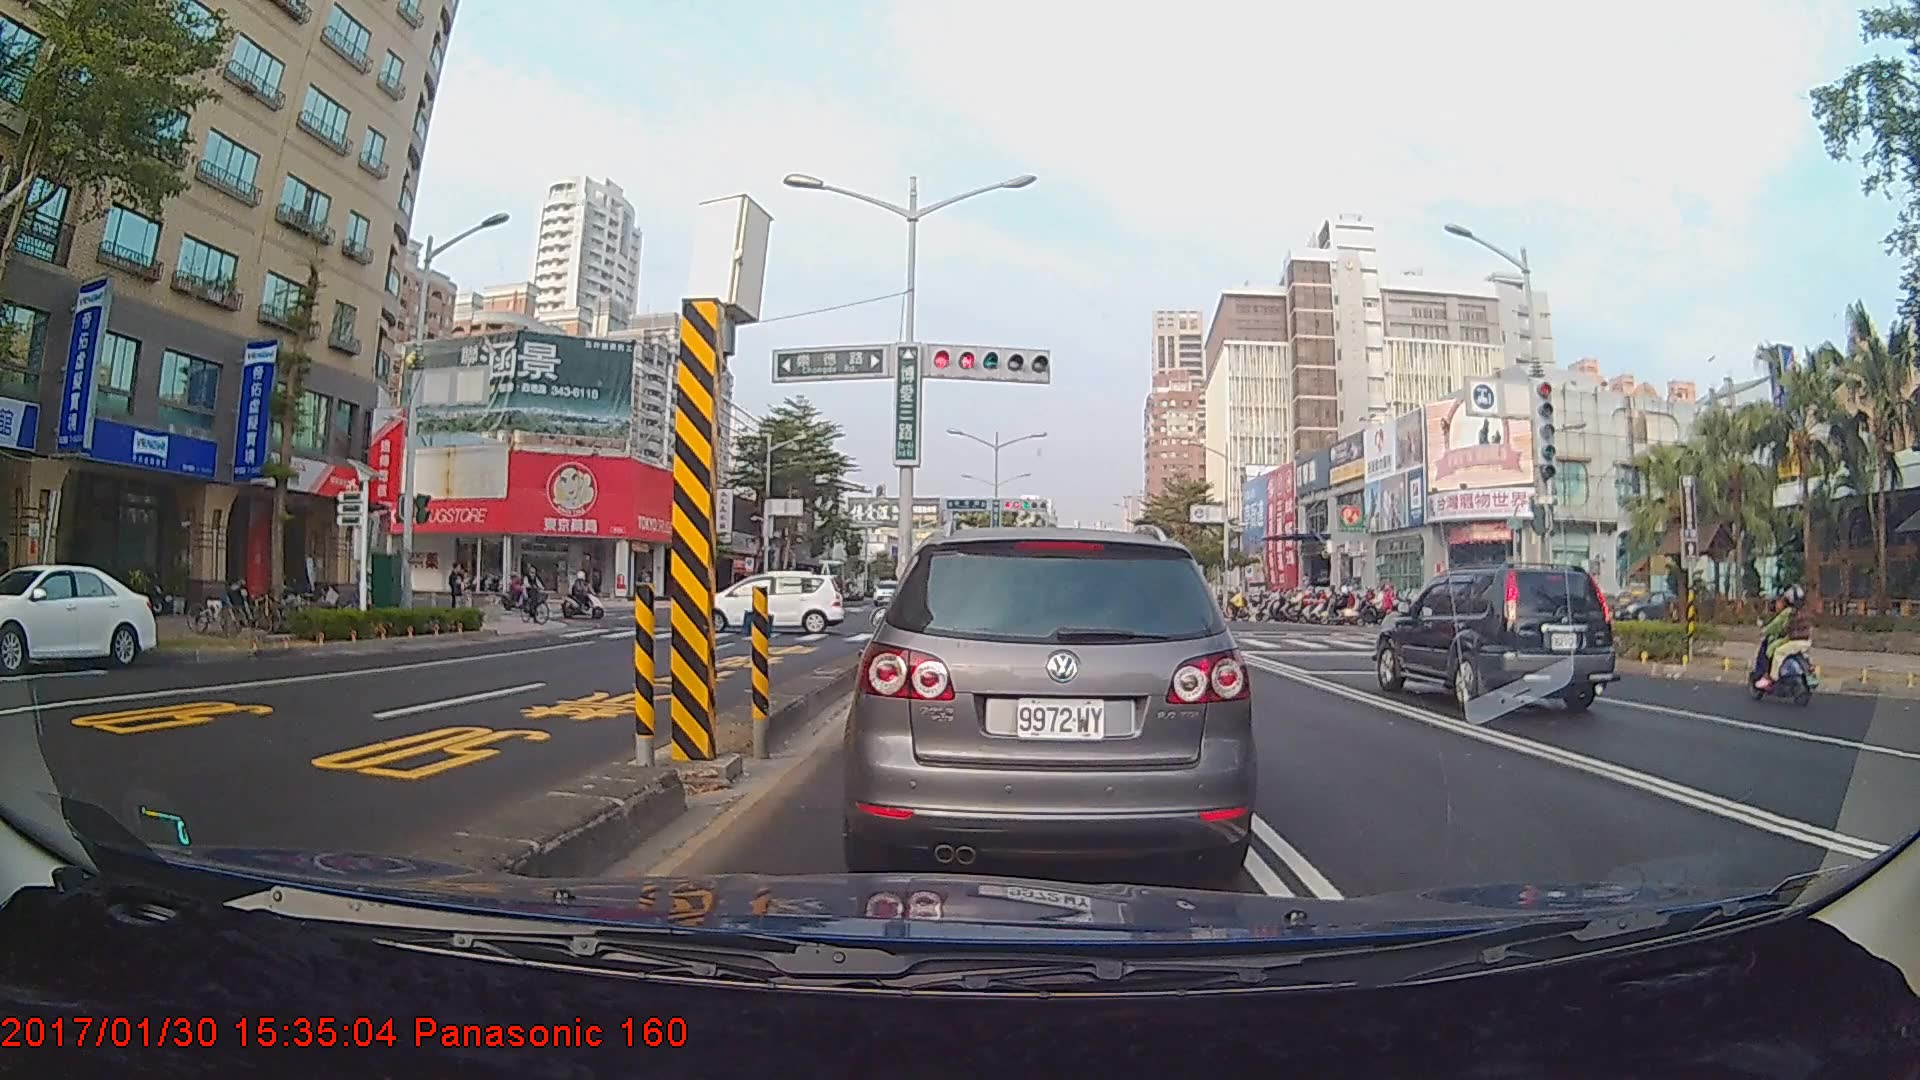pedestrian: (448, 563, 468, 620)
rider: (1745, 580, 1822, 714), (561, 570, 609, 622), (493, 571, 541, 614), (520, 566, 551, 627)
vehicle: (838, 512, 1261, 883), (1370, 564, 1610, 712), (0, 562, 154, 674), (685, 570, 845, 635)
